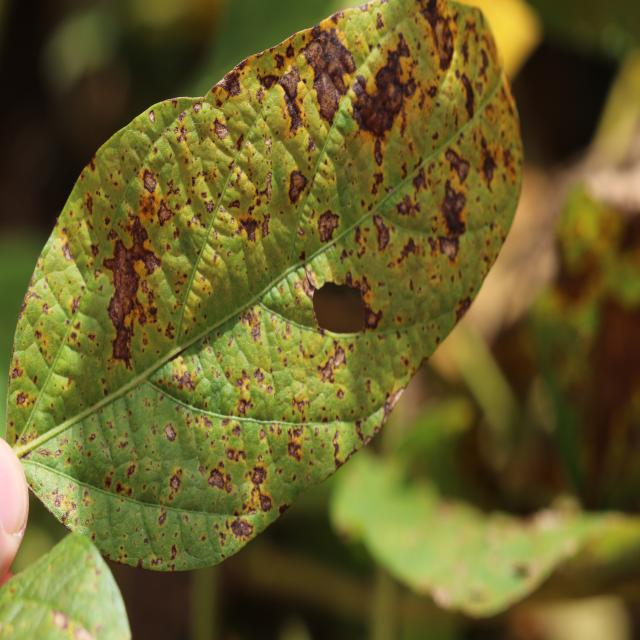Bacterial_Blight: (352, 31, 414, 141), (103, 227, 146, 371), (341, 266, 386, 331), (439, 178, 468, 237), (311, 71, 343, 123), (246, 463, 274, 512), (317, 344, 346, 383), (281, 90, 305, 136), (380, 389, 405, 429), (445, 146, 471, 183), (215, 67, 244, 98), (457, 72, 475, 121), (317, 208, 340, 243), (480, 149, 498, 193), (288, 169, 309, 206), (236, 215, 261, 244), (372, 214, 391, 252), (286, 427, 305, 462), (397, 195, 421, 219), (166, 467, 183, 497), (454, 296, 472, 322), (207, 467, 227, 490), (156, 199, 173, 226), (142, 170, 158, 195), (10, 357, 25, 382), (213, 119, 230, 141), (60, 239, 75, 262), (236, 397, 252, 417), (264, 171, 273, 202), (84, 193, 93, 216), (16, 392, 27, 406)
Soybean: (7, 0, 522, 569)
